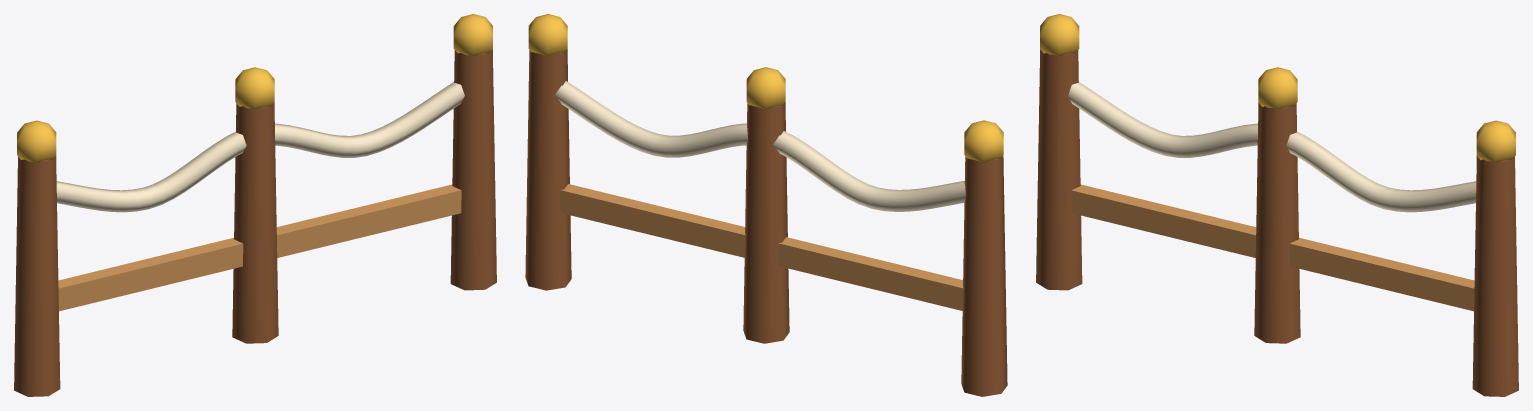
Rendered from fence-segment.glb.
3 renders of one model, left to right at view 1: azimuth 30°, elevation 25°; view 2: azimuth 150°, elevation 25°; view 3: azimuth 330°, elevation 25°, orthographic.
Visible parts, largest first — view 1: Mesh_wood, Mesh_lightWood, Mesh_cream, Mesh_gold; view 2: Mesh_wood, Mesh_lightWood, Mesh_cream, Mesh_gold; view 3: Mesh_wood, Mesh_lightWood, Mesh_cream, Mesh_gold.
Part boxes in pixels (<box>): Mesh_wood: <box>14,49,496,396</box>; Mesh_lightWood: <box>58,184,461,311</box>; Mesh_cream: <box>56,82,464,212</box>; Mesh_gold: <box>17,14,492,163</box>; Mesh_wood: <box>525,49,1007,396</box>; Mesh_lightWood: <box>560,184,963,310</box>; Mesh_cream: <box>555,81,965,211</box>; Mesh_gold: <box>528,14,1003,162</box>; Mesh_wood: <box>1036,49,1518,396</box>; Mesh_lightWood: <box>1071,184,1474,311</box>; Mesh_cream: <box>1068,82,1476,212</box>; Mesh_gold: <box>1040,14,1515,163</box>.
Bounding box in the file's own units: 1.97 × 1.04 × 0.1616.
